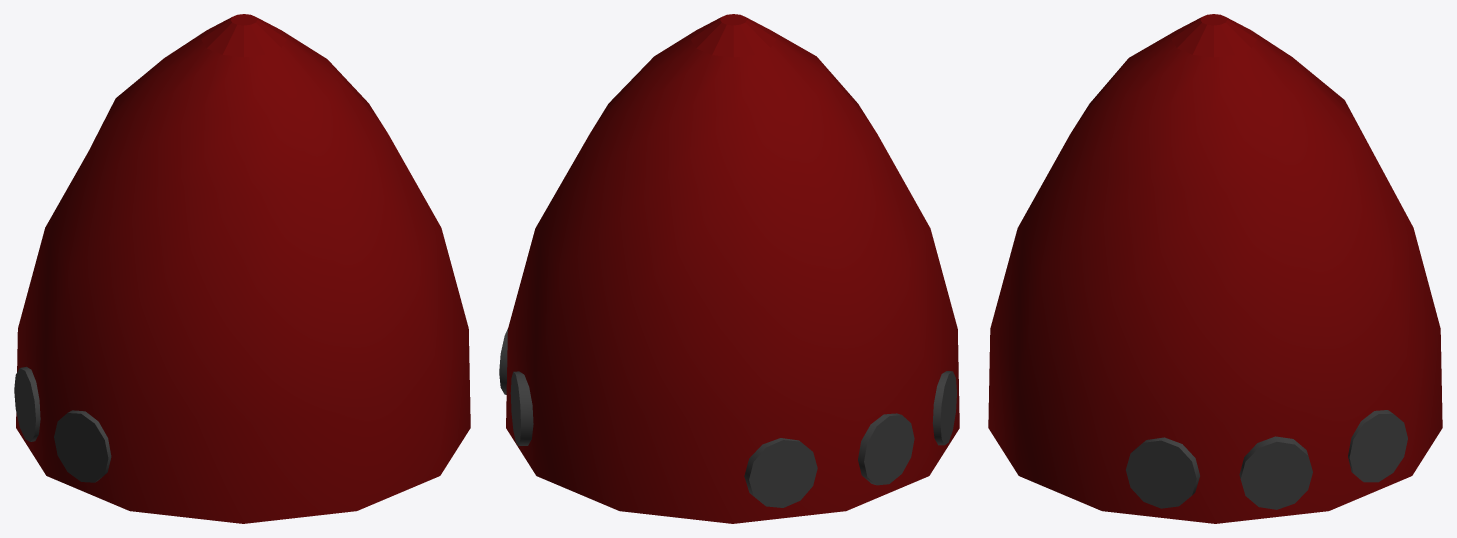
The model's file is debris5.FBX.
The picture shows the model from 3 angles, left to right: view 1: azimuth 30°, elevation 25°; view 2: azimuth 150°, elevation 25°; view 3: azimuth 270°, elevation 25°; orthographic projection.
Visible parts, largest first — view 1: Cylinder010; view 2: Cylinder010; view 3: Cylinder010.
Part boxes in pixels (bbox=[...]): Cylinder010: bbox=[14, 14, 470, 523]; Cylinder010: bbox=[499, 14, 959, 523]; Cylinder010: bbox=[988, 14, 1442, 523].
Bounding box in the file's own units: 59.98 × 58.81 × 59.28.
